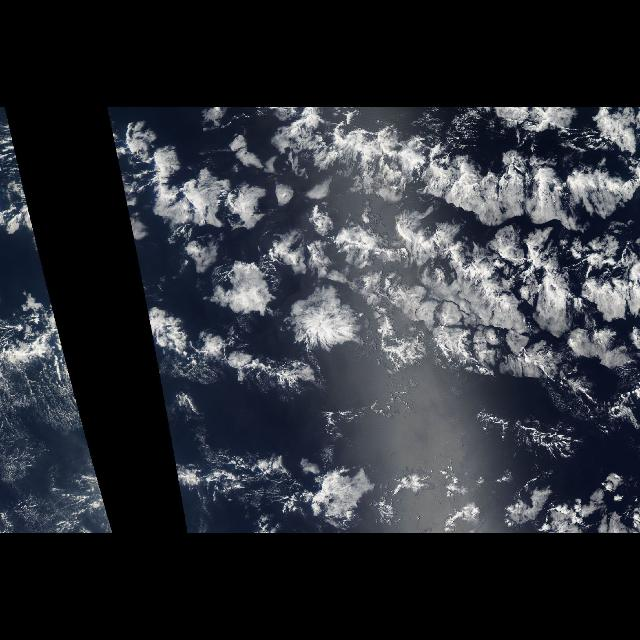Fish: (148, 292, 328, 422)
Flower: (123, 114, 632, 398)
Sugar: (9, 368, 115, 532)
